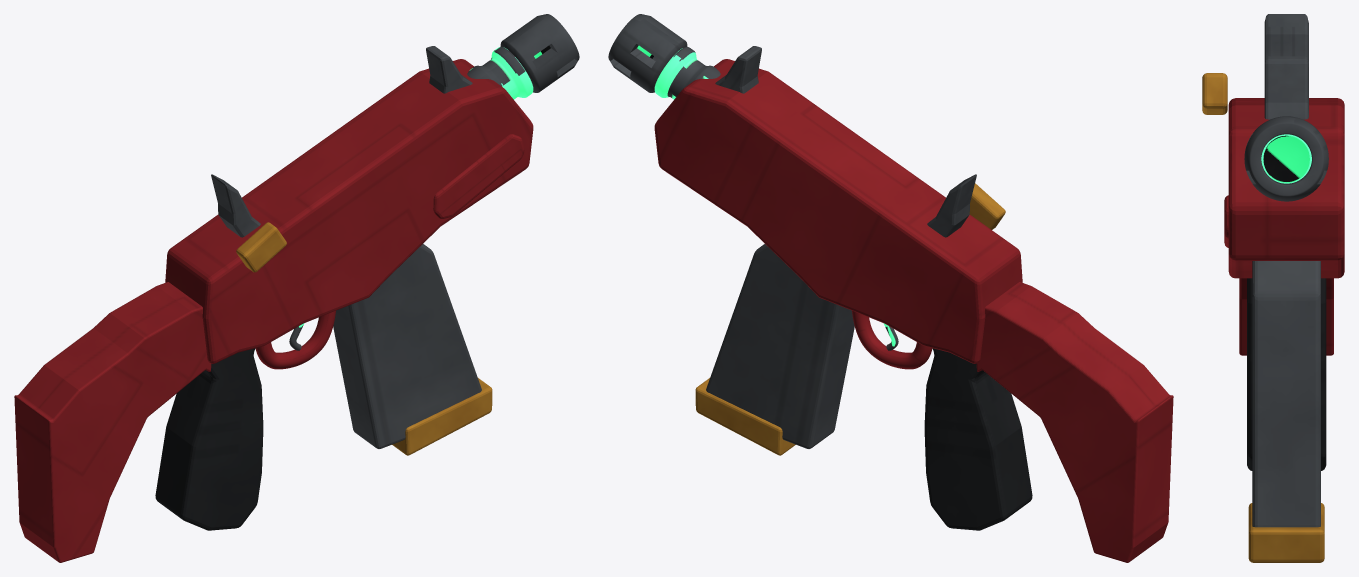
The model's file is asset.fbx.
3 renders of one model, left to right at view 1: azimuth 30°, elevation 25°; view 2: azimuth 150°, elevation 25°; view 3: azimuth 270°, elevation 25°, orthographic. The views are drawn at different scales.
Parts seen in each view (by area): view 1: item.standardgun.receiver__LOD0, item.standardgun.stock__LOD0, item.standardgun.magazine__LOD0, item.standardgun.grip__LOD0, item.standardgun.muzzle_brake__LOD0, item.standardgun.foregrip_housing__LOD0, item.standardgun.magazine_base__LOD0, item.standardgun.barrel__LOD0, item.standardgun.trigger_guard__LOD0, item.standardgun.rear_sight__LOD0, item.standardgun.control_block__LOD0, item.standardgun.front_sight__LOD0; view 2: item.standardgun.receiver__LOD0, item.standardgun.stock__LOD0, item.standardgun.magazine__LOD0, item.standardgun.grip__LOD0, item.standardgun.muzzle_brake__LOD0, item.standardgun.magazine_base__LOD0, item.standardgun.barrel__LOD0, item.standardgun.trigger_guard__LOD0, item.standardgun.rear_sight__LOD0, item.standardgun.front_sight__LOD0, item.standardgun.control_block__LOD0; view 3: item.standardgun.magazine__LOD0, item.standardgun.receiver__LOD0, item.standardgun.muzzle_brake__LOD0, item.standardgun.magazine_base__LOD0, item.standardgun.front_sight__LOD0, item.standardgun.grip__LOD0, item.standardgun.rear_sight__LOD0, item.standardgun.muzzle_bore__LOD0, item.standardgun.stock__LOD0, item.standardgun.control_block__LOD0, item.standardgun.barrel__LOD0, item.standardgun.foregrip_housing__LOD0.
Boxes of the visible parts, left/top/right/bottom form: item.standardgun.receiver__LOD0: left=165, top=59, right=533, bottom=363; item.standardgun.stock__LOD0: left=14, top=282, right=211, bottom=562; item.standardgun.magazine__LOD0: left=333, top=244, right=481, bottom=448; item.standardgun.grip__LOD0: left=155, top=348, right=263, bottom=530; item.standardgun.muzzle_brake__LOD0: left=500, top=14, right=579, bottom=92; item.standardgun.foregrip_housing__LOD0: left=433, top=134, right=524, bottom=218; item.standardgun.magazine_base__LOD0: left=392, top=378, right=492, bottom=455; item.standardgun.barrel__LOD0: left=467, top=47, right=533, bottom=99; item.standardgun.trigger_guard__LOD0: left=255, top=310, right=335, bottom=369; item.standardgun.rear_sight__LOD0: left=211, top=174, right=260, bottom=237; item.standardgun.control_block__LOD0: left=236, top=222, right=286, bottom=272; item.standardgun.front_sight__LOD0: left=426, top=46, right=472, bottom=93; item.standardgun.receiver__LOD0: left=654, top=59, right=1022, bottom=363; item.standardgun.stock__LOD0: left=976, top=282, right=1173, bottom=562; item.standardgun.magazine__LOD0: left=706, top=244, right=854, bottom=448; item.standardgun.grip__LOD0: left=924, top=348, right=1032, bottom=530; item.standardgun.muzzle_brake__LOD0: left=608, top=14, right=687, bottom=92; item.standardgun.magazine_base__LOD0: left=695, top=378, right=795, bottom=455; item.standardgun.barrel__LOD0: left=654, top=47, right=720, bottom=99; item.standardgun.trigger_guard__LOD0: left=852, top=310, right=932, bottom=369; item.standardgun.rear_sight__LOD0: left=927, top=174, right=976, bottom=237; item.standardgun.front_sight__LOD0: left=715, top=46, right=761, bottom=93; item.standardgun.control_block__LOD0: left=969, top=183, right=1005, bottom=229; item.standardgun.magazine__LOD0: left=1252, top=261, right=1320, bottom=527; item.standardgun.receiver__LOD0: left=1228, top=98, right=1344, bottom=278; item.standardgun.muzzle_brake__LOD0: left=1244, top=116, right=1328, bottom=201; item.standardgun.magazine_base__LOD0: left=1248, top=503, right=1324, bottom=562; item.standardgun.front_sight__LOD0: left=1264, top=56, right=1308, bottom=119; item.standardgun.grip__LOD0: left=1247, top=278, right=1326, bottom=470; item.standardgun.rear_sight__LOD0: left=1264, top=14, right=1308, bottom=59; item.standardgun.muzzle_bore__LOD0: left=1263, top=135, right=1309, bottom=182; item.standardgun.stock__LOD0: left=1239, top=278, right=1333, bottom=355; item.standardgun.control_block__LOD0: left=1202, top=73, right=1227, bottom=114; item.standardgun.barrel__LOD0: left=1261, top=134, right=1311, bottom=183; item.standardgun.foregrip_housing__LOD0: left=1224, top=195, right=1228, bottom=247.
Size of what is drawn, in the model's own units: 0.7867 by 0.5871 by 0.135.
